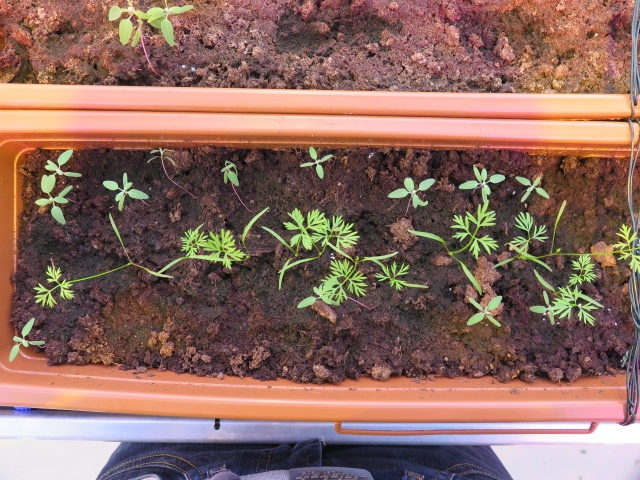weed: (5, 311, 50, 364), (100, 166, 151, 211), (384, 173, 437, 211), (295, 141, 336, 181), (512, 170, 550, 207)
